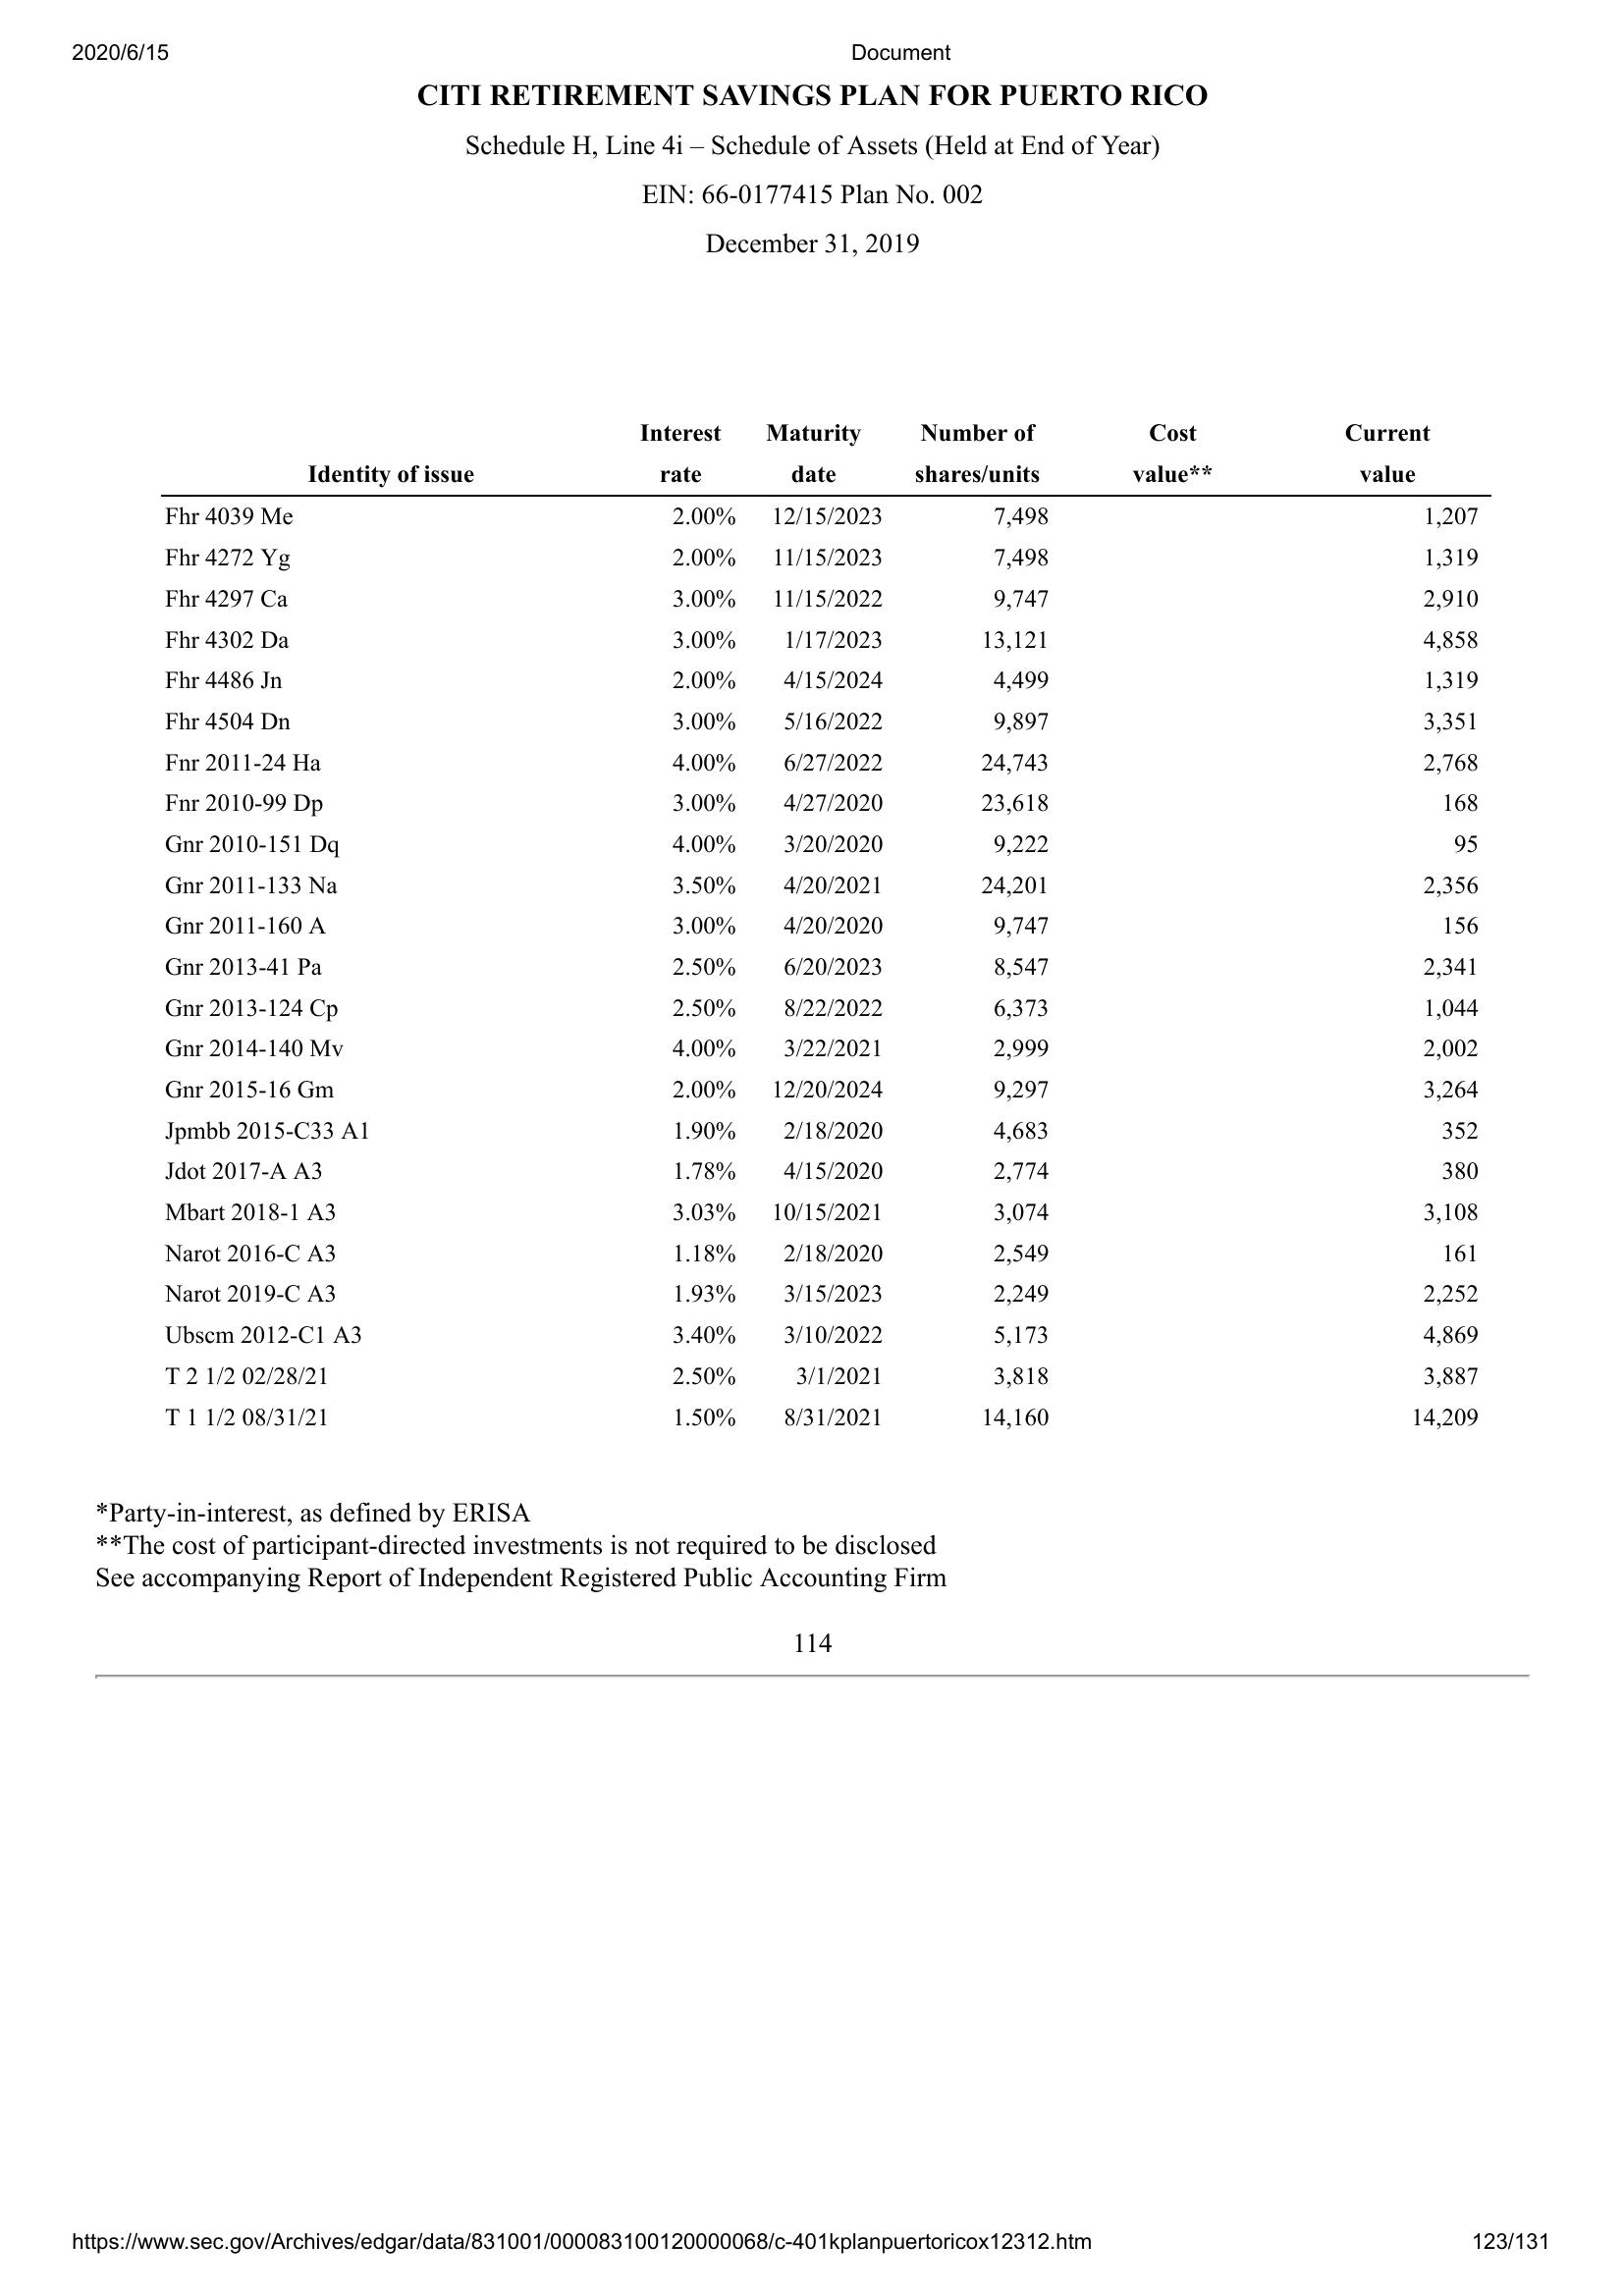table: (141, 420, 1498, 1446)
